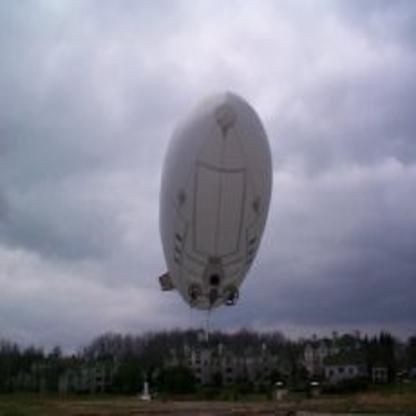Airship: (155, 90, 275, 317)
